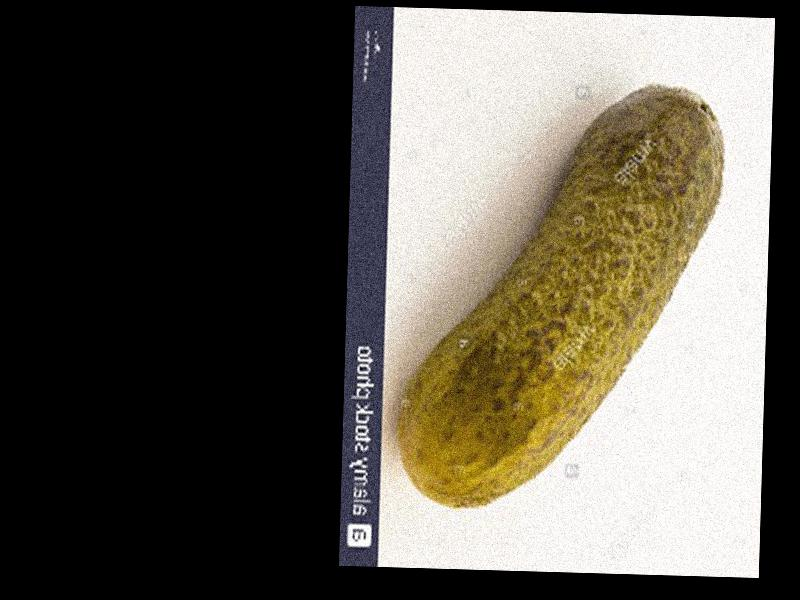Cucumber: (397, 78, 724, 517)
